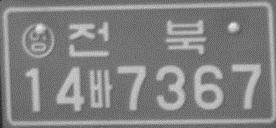1: (20, 65, 50, 113)
3: (155, 63, 186, 111)
4: (55, 65, 85, 112)
6: (192, 63, 224, 111)
7: (230, 62, 262, 110), (116, 64, 147, 110)
바: (88, 68, 113, 109)
영: (21, 22, 55, 59)
전북_D: (67, 18, 207, 59)
